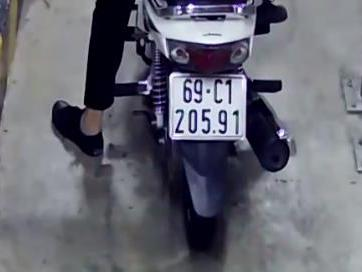num_plate: (170, 73, 246, 138)
